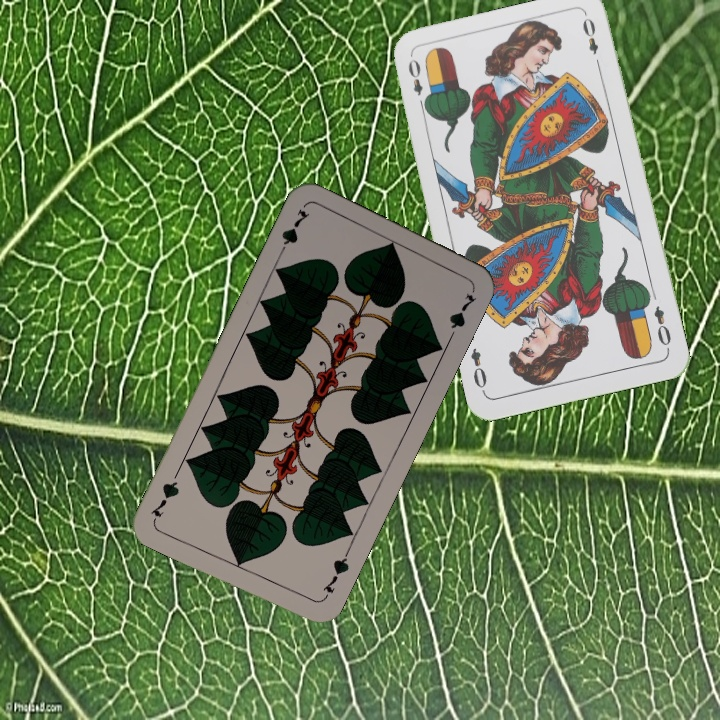EO: (404, 54, 430, 112), (650, 302, 674, 353)
G7: (273, 205, 312, 260), (317, 548, 352, 603)
